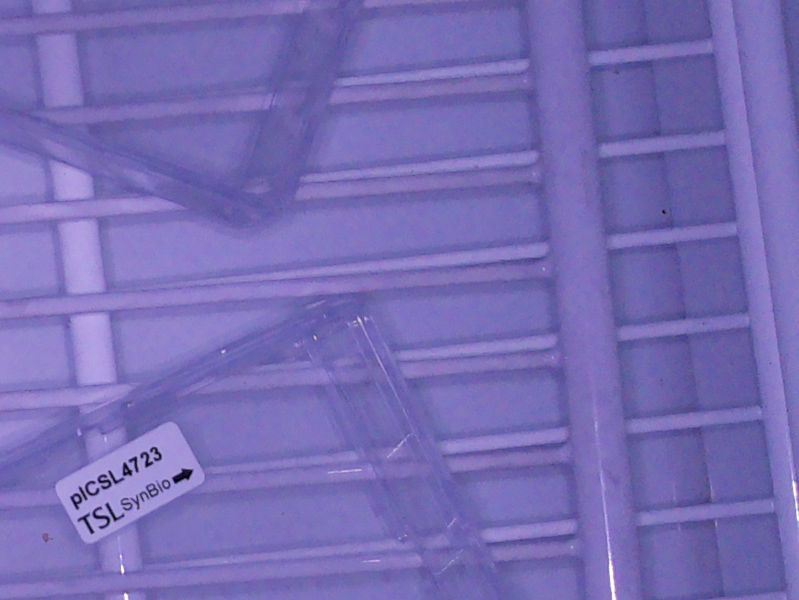plate: (1, 290, 499, 600), (1, 1, 365, 229)
